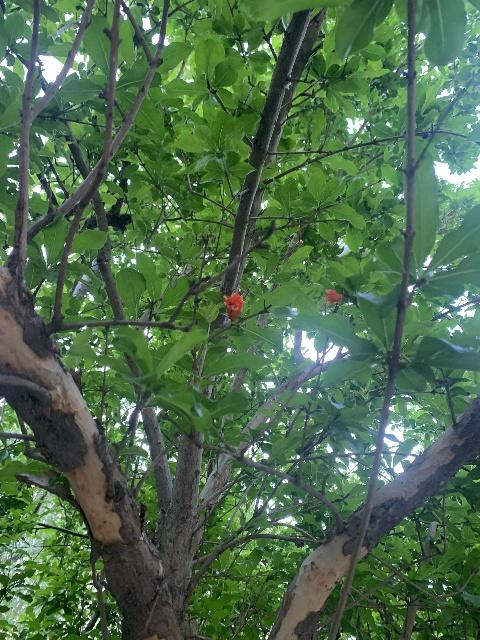flower: (223, 292, 245, 321), (322, 289, 343, 306)
